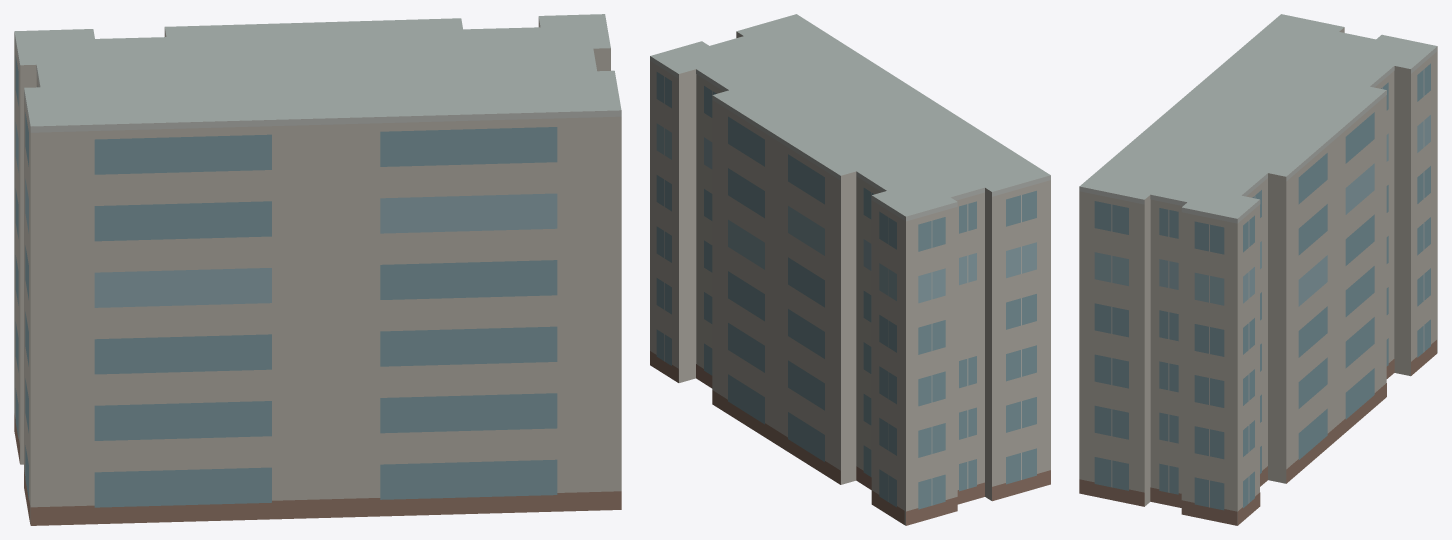
The model's file is survey-upis-32894258.glb.
3 renders of one model, left to right at view 1: azimuth 30°, elevation 25°; view 2: azimuth 150°, elevation 25°; view 3: azimuth 270°, elevation 25°, orthographic. The views are drawn at different scales.
Visible parts, largest first — view 1: survey-upis-32894258.tmp; view 2: survey-upis-32894258.tmp; view 3: survey-upis-32894258.tmp.
Boxes of the visible parts, x1=… form: survey-upis-32894258.tmp: x1=14, y1=14, x2=621, y2=525; survey-upis-32894258.tmp: x1=650, y1=14, x2=1050, y2=525; survey-upis-32894258.tmp: x1=1079, y1=14, x2=1437, y2=525.
Bounding box in the file's own units: 22.33 × 15.6 × 16.5.
